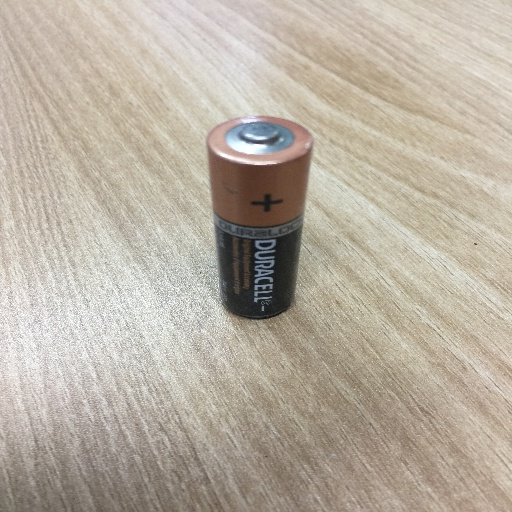Battery_0: (199, 104, 312, 328)
